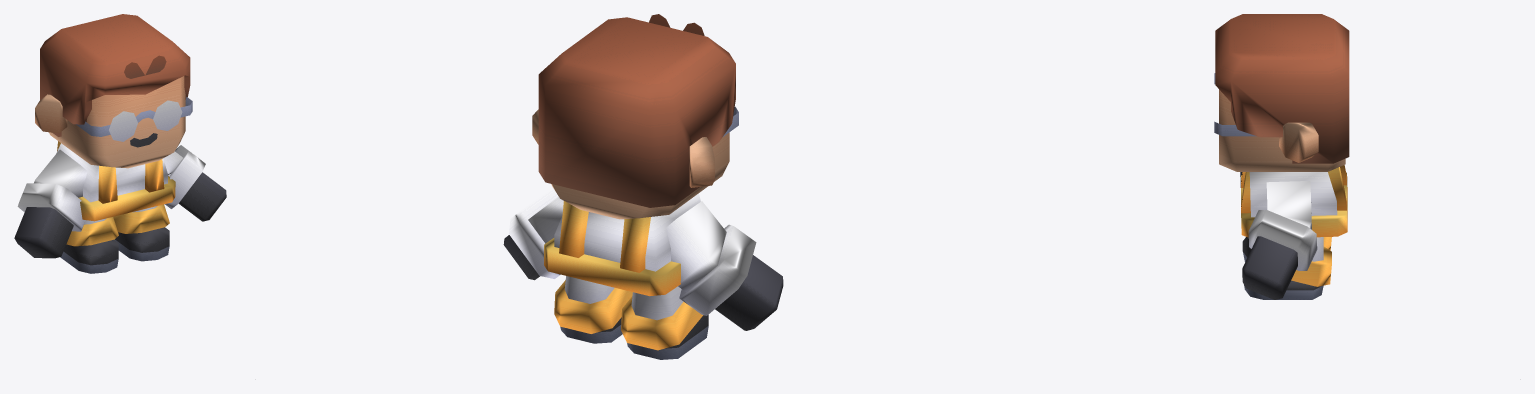
Rendered from builder_sprint_5.glb.
The picture shows the model from 3 angles, left to right: view 1: azimuth 30°, elevation 25°; view 2: azimuth 150°, elevation 25°; view 3: azimuth 270°, elevation 25°; orthographic projection. The views are drawn at different scales.
Visible parts, largest first — view 1: builder-sprint-5; view 2: builder-sprint-5; view 3: builder-sprint-5.
Part boxes in pixels (box(x1,y1,x2,y2)): builder-sprint-5: box(14, 14, 226, 273); builder-sprint-5: box(503, 14, 783, 359); builder-sprint-5: box(1214, 14, 1349, 299).
Bounding box in the file's own units: 1.2 × 0.6862 × 1.2.
1 material, 1 textured.
